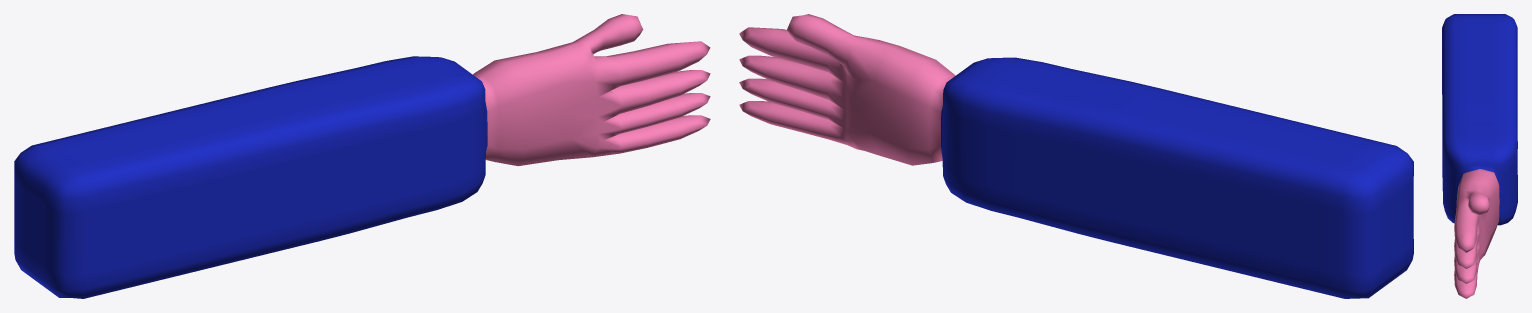
Rendered from bracoAberto.FBX.
3 renders of one model, left to right at view 1: azimuth 30°, elevation 25°; view 2: azimuth 150°, elevation 25°; view 3: azimuth 270°, elevation 25°, orthographic. The views are drawn at different scales.
Parts seen in each view (by area): view 1: Box001; view 2: Box001; view 3: Box001.
Part boxes in pixels (x1=…): Box001: x1=14, y1=14, x2=710, y2=298; Box001: x1=739, y1=14, x2=1413, y2=298; Box001: x1=1442, y1=14, x2=1517, y2=298.
Bounding box in the file's own units: 143 × 26.65 × 21.15.
